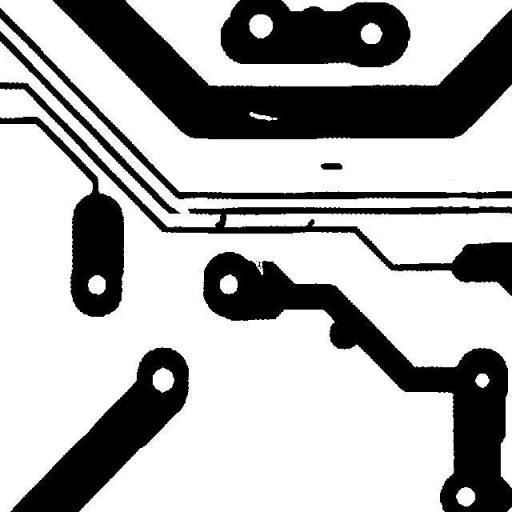copper: (312, 155, 350, 177)
mousebite: (244, 252, 270, 282)
open: (163, 195, 197, 222)
pin-hole: (242, 104, 284, 128)
short: (207, 202, 234, 237)
spur: (296, 211, 322, 238)
